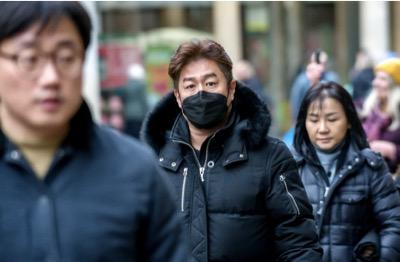with_mask: (175, 70, 229, 130)
without_mask: (0, 34, 85, 130), (304, 108, 347, 149)
